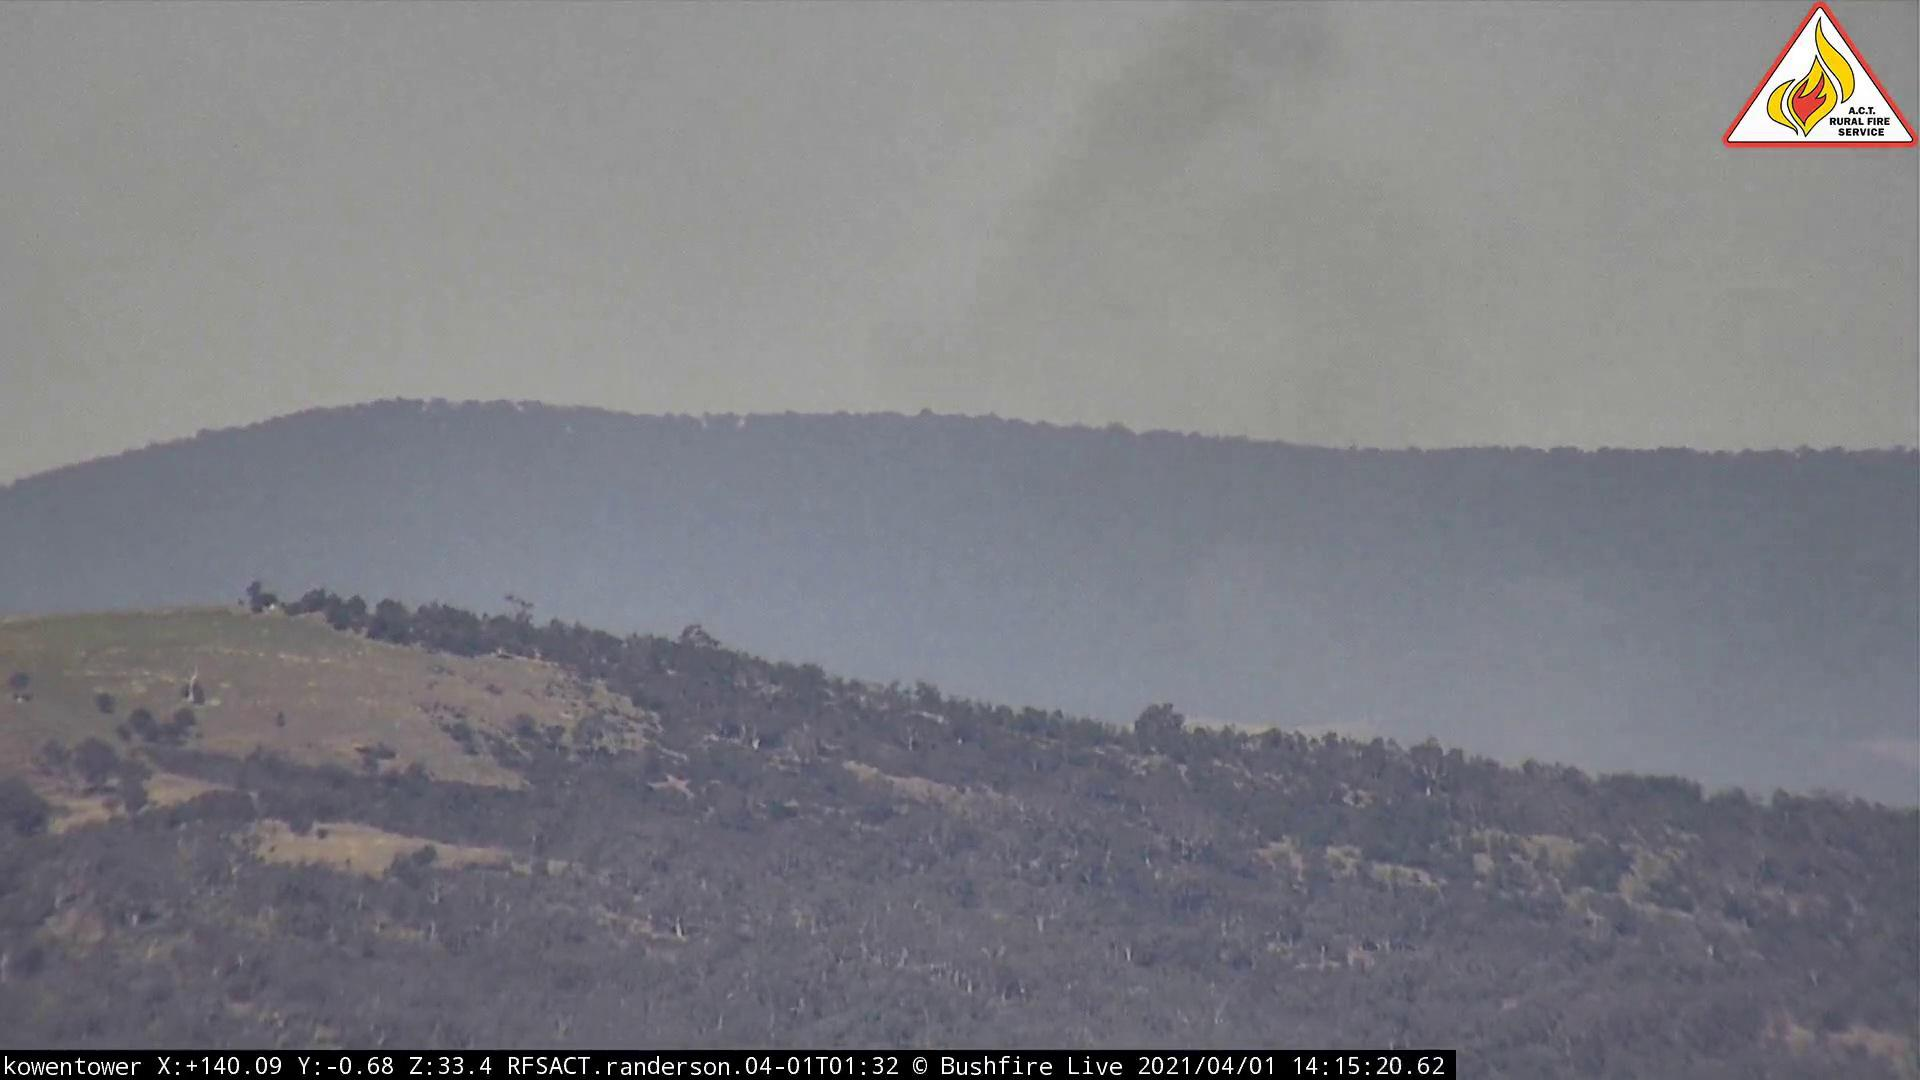instance_salient_object: (858, 3, 1556, 566)
